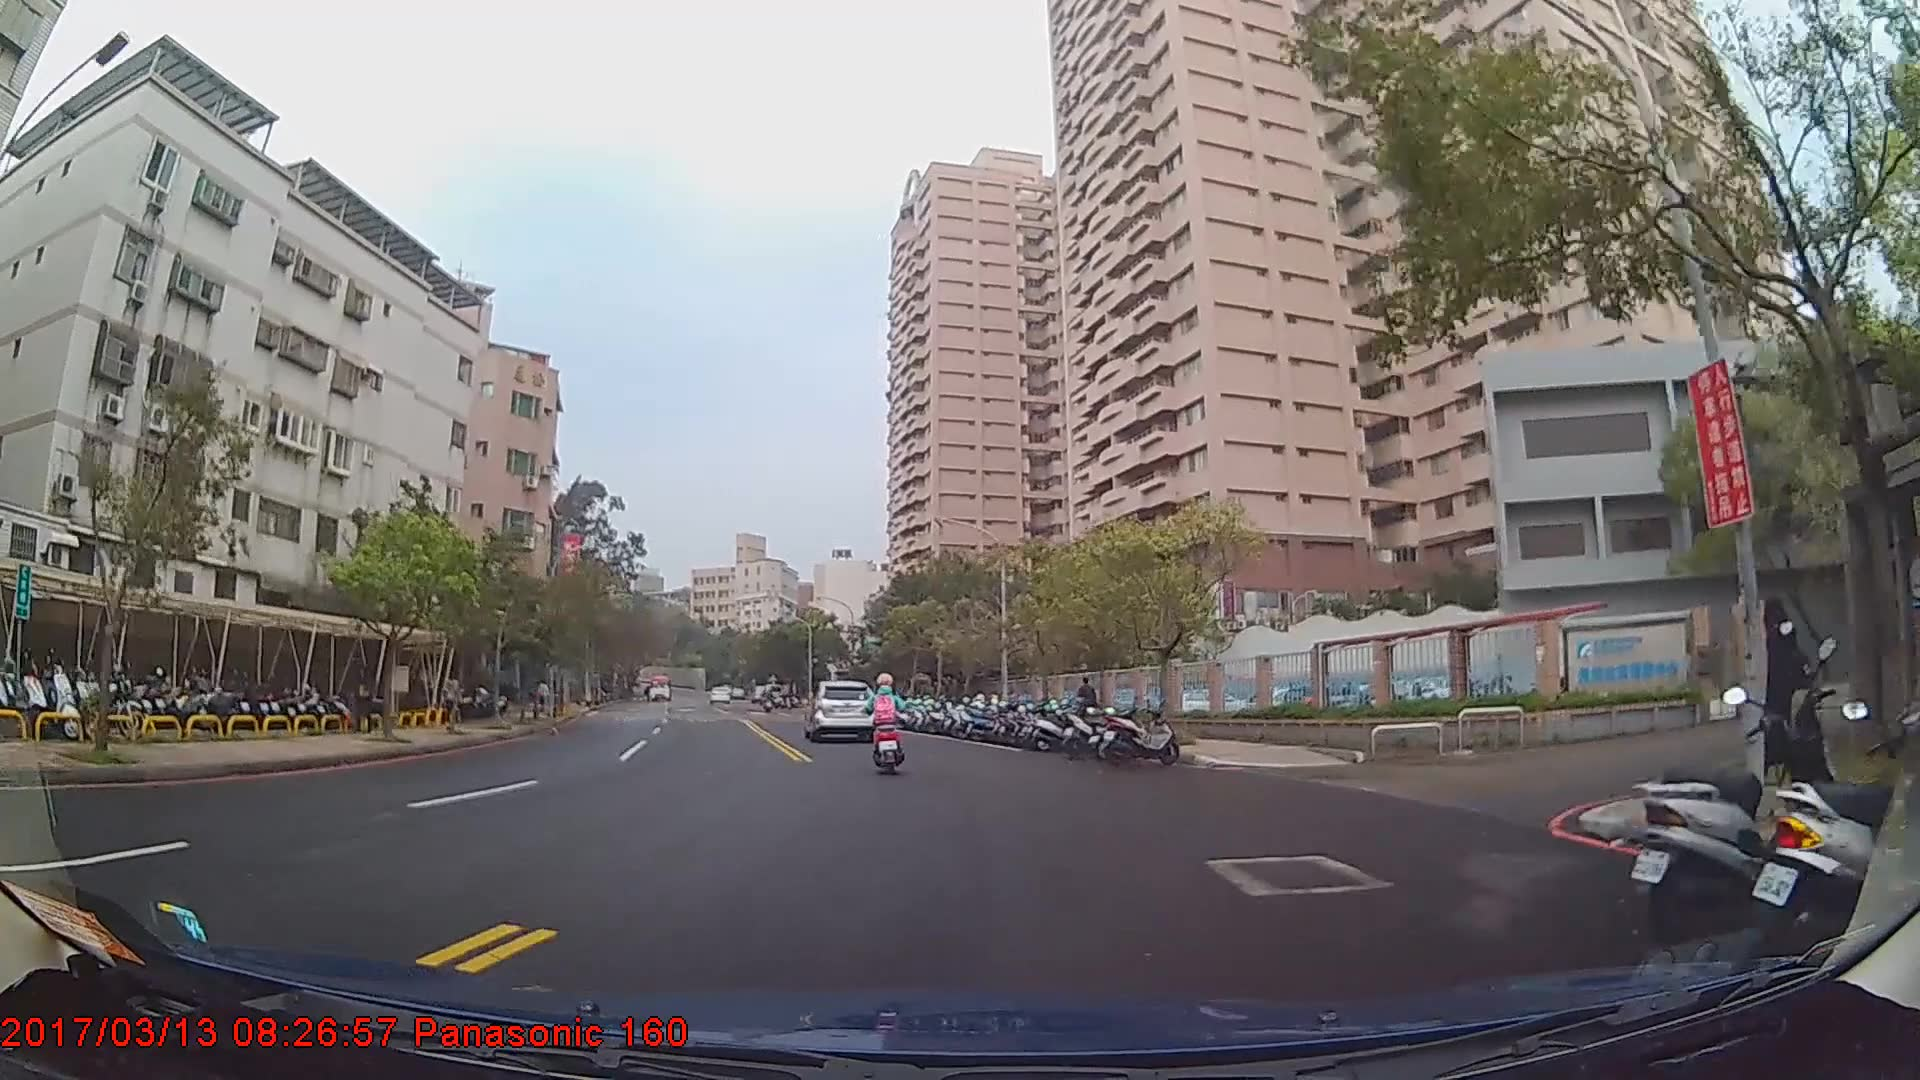pedestrian: (1739, 593, 1817, 816), (351, 663, 378, 737), (1078, 677, 1098, 734)
rider: (864, 671, 906, 768)
vehicle: (803, 679, 879, 743), (642, 671, 670, 701)
